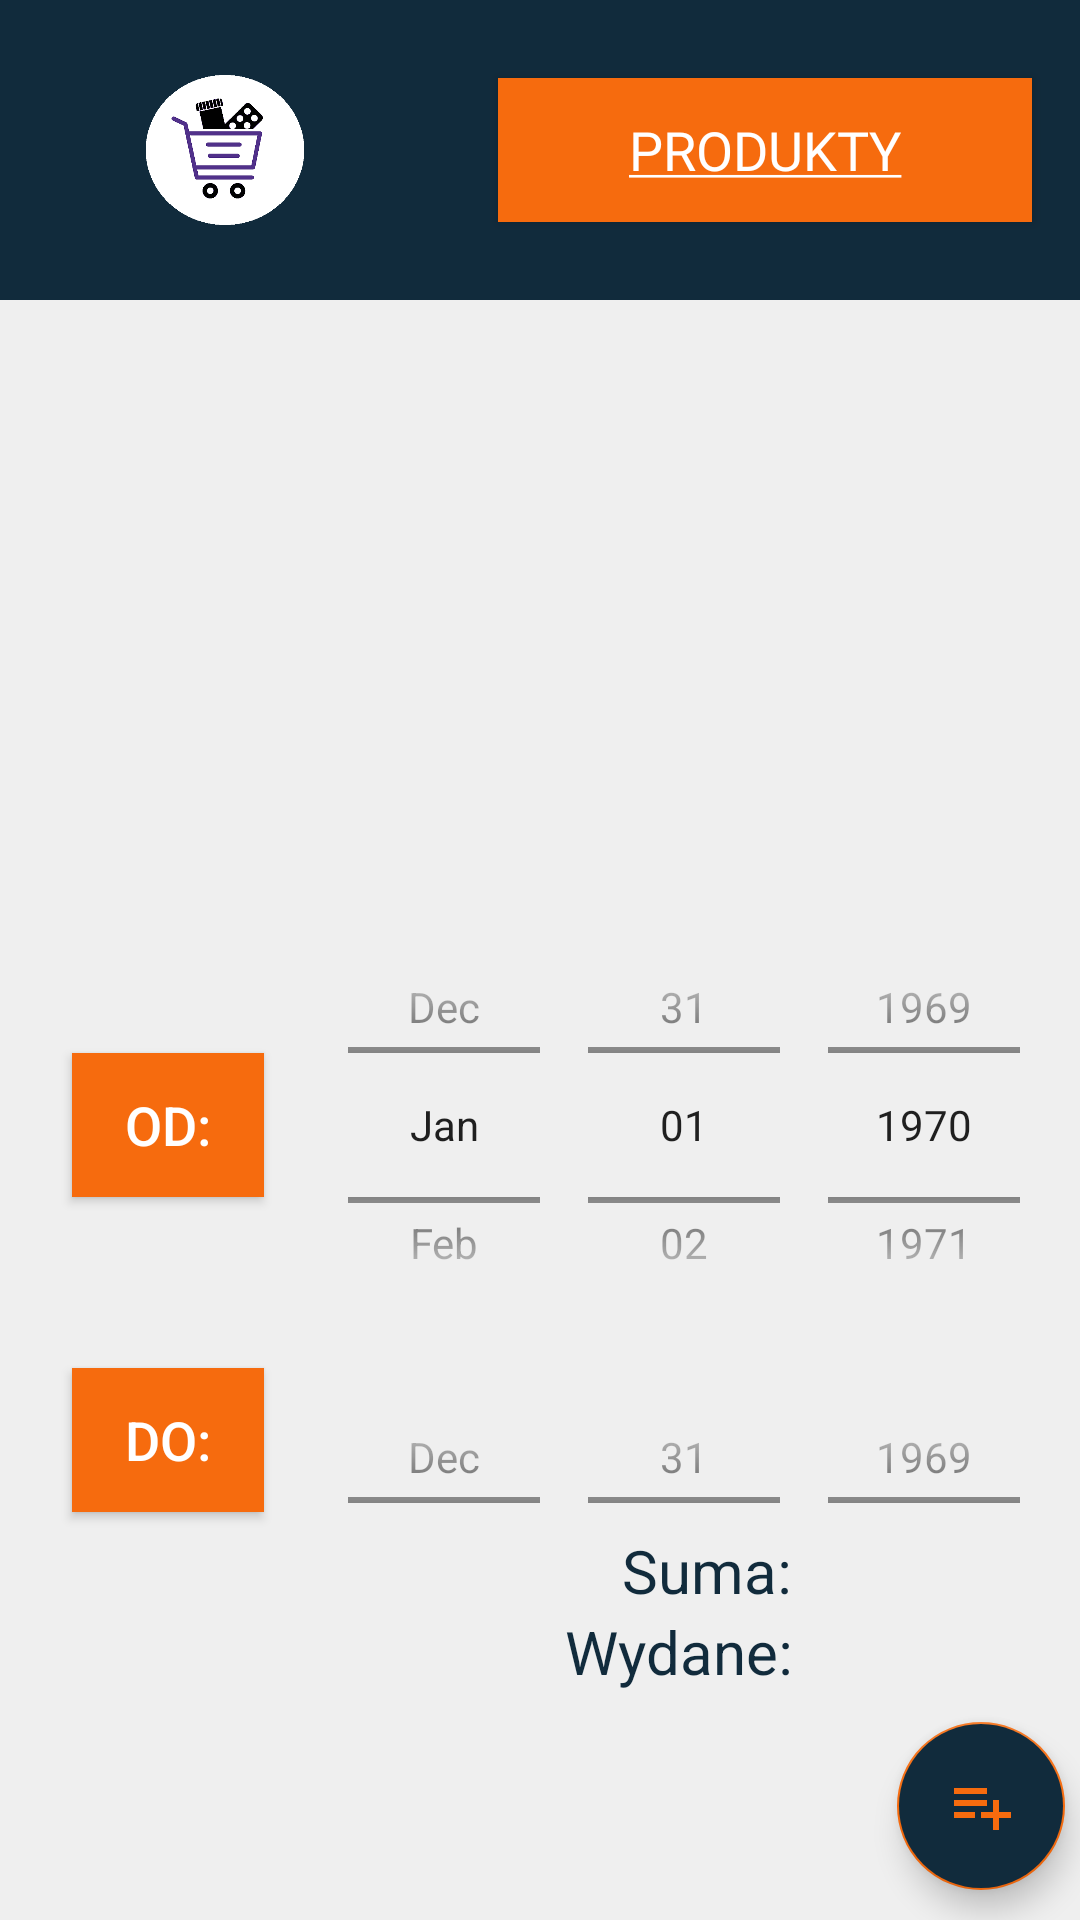

Icon click points for this 1080w x 1920h phone screenshot, format (x,y):
playlist add: (981,1806)
